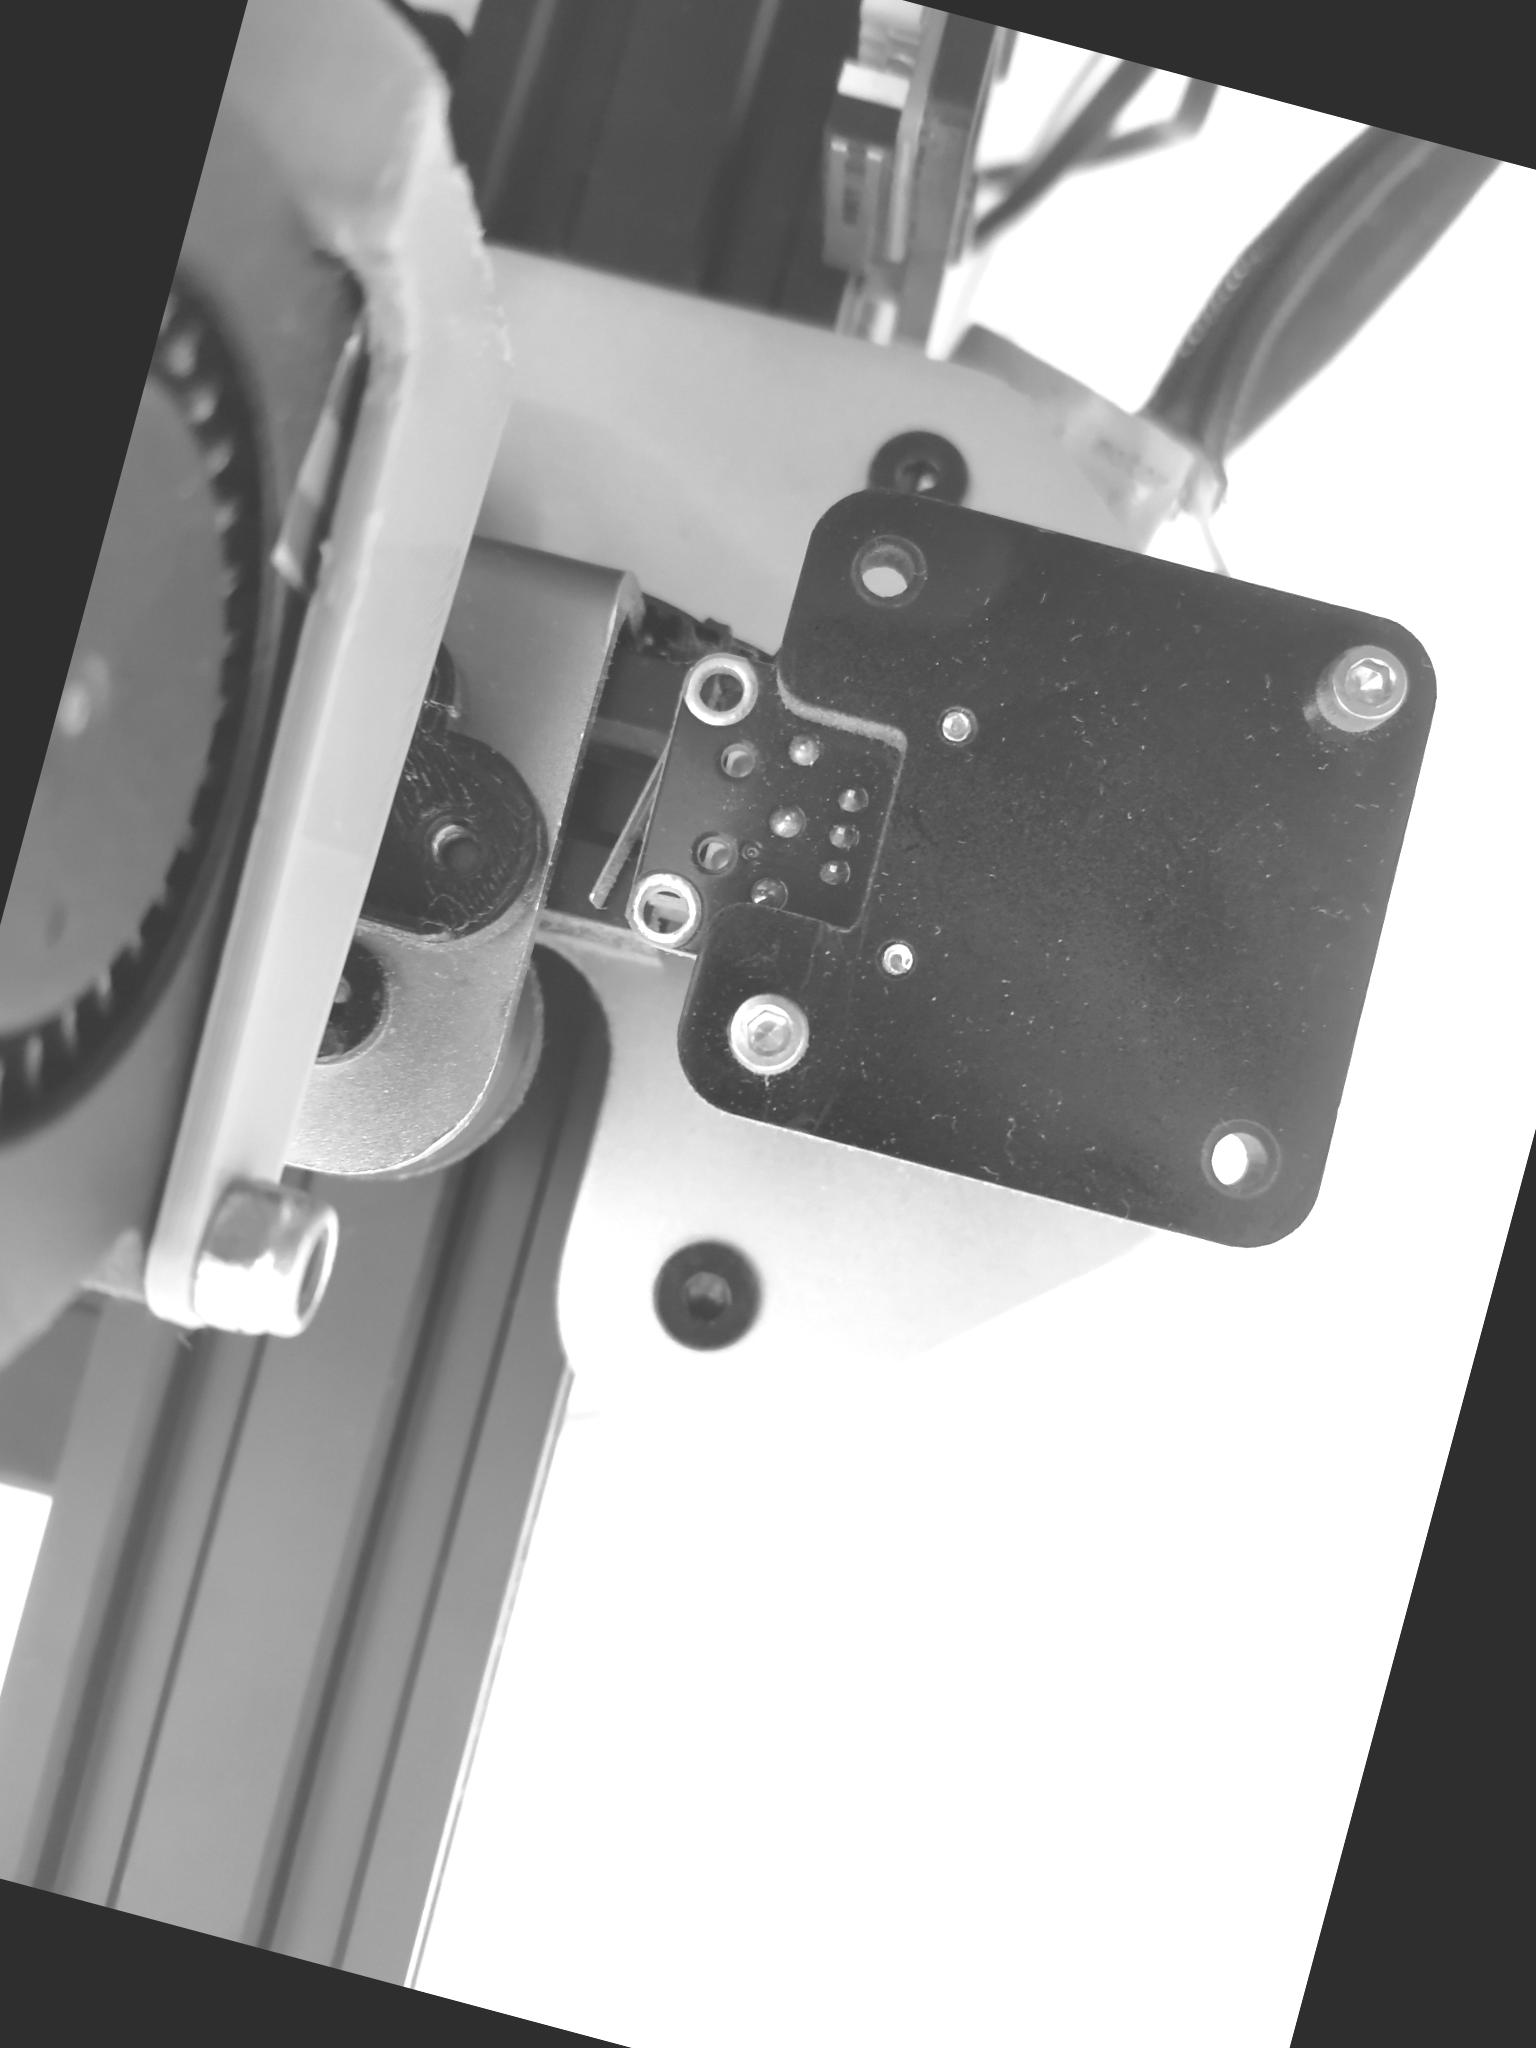screw: (1309, 627, 1421, 740), (715, 982, 821, 1085)
